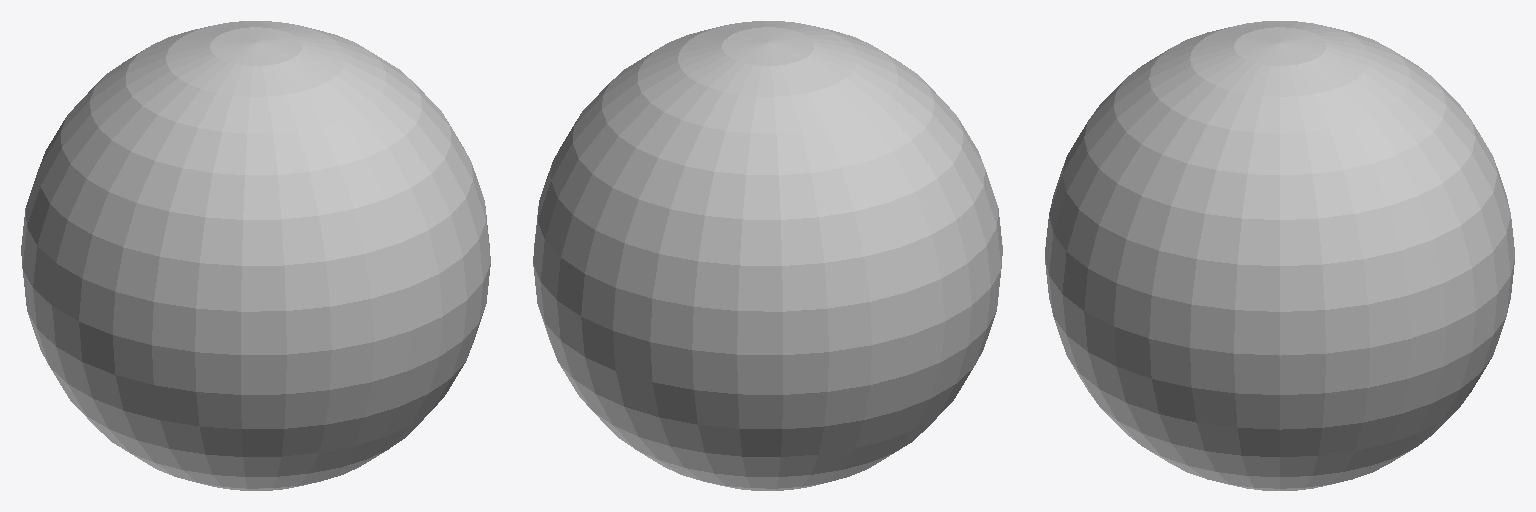
Rendered from pinball.obj.
The picture shows the model from 3 angles: view 1: azimuth 30°, elevation 25°; view 2: azimuth 150°, elevation 25°; view 3: azimuth 270°, elevation 25°; orthographic projection.
Parts seen in each view (by area): view 1: Sphere; view 2: Sphere; view 3: Sphere.
Boxes of the visible parts, <box> form: Sphere: <box>21,21,490,490</box>; Sphere: <box>533,21,1002,490</box>; Sphere: <box>1045,21,1514,490</box>.
Size of the model in its own units: 0.8 by 0.8 by 0.8.